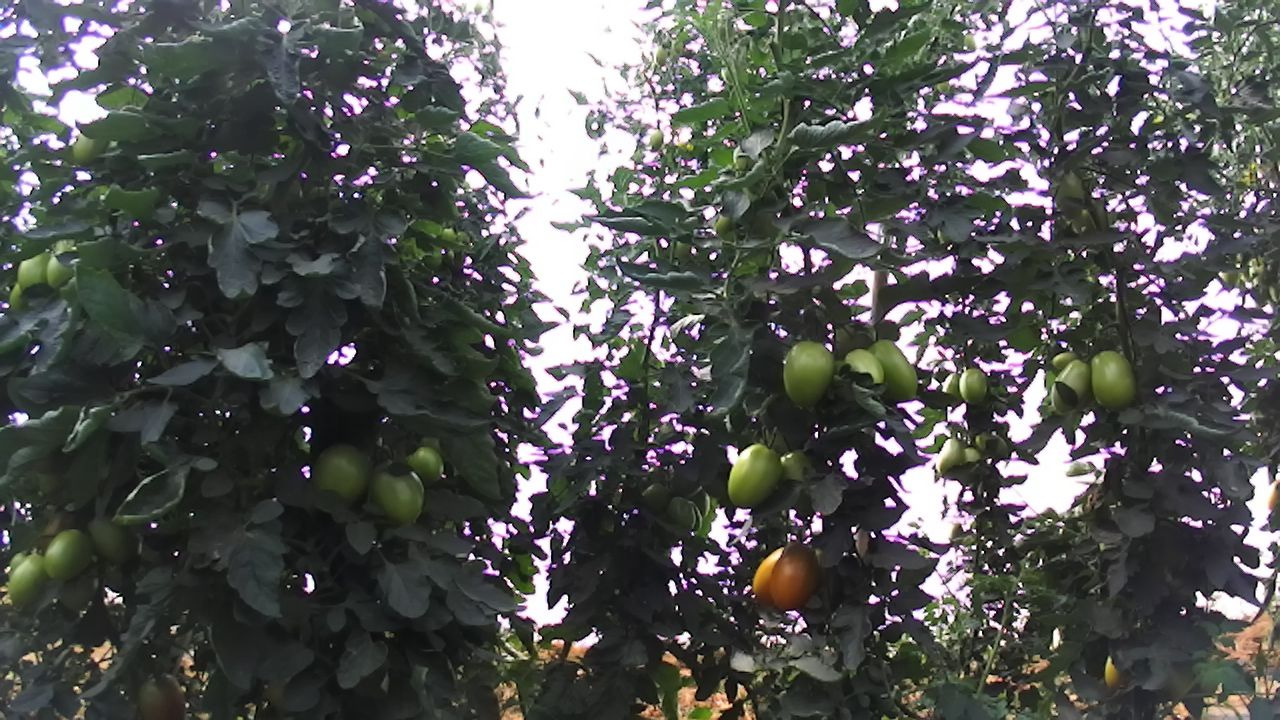tomato: (308, 439, 375, 516), (779, 335, 840, 414), (722, 440, 789, 511), (767, 537, 823, 615), (366, 463, 430, 529), (862, 337, 921, 404), (38, 522, 97, 584), (131, 664, 192, 720), (1089, 347, 1140, 413), (87, 514, 137, 567), (6, 552, 49, 611), (1050, 358, 1089, 418), (402, 442, 446, 486), (844, 346, 887, 389), (68, 131, 112, 167), (932, 436, 966, 478), (957, 365, 990, 406), (1050, 346, 1082, 371)
